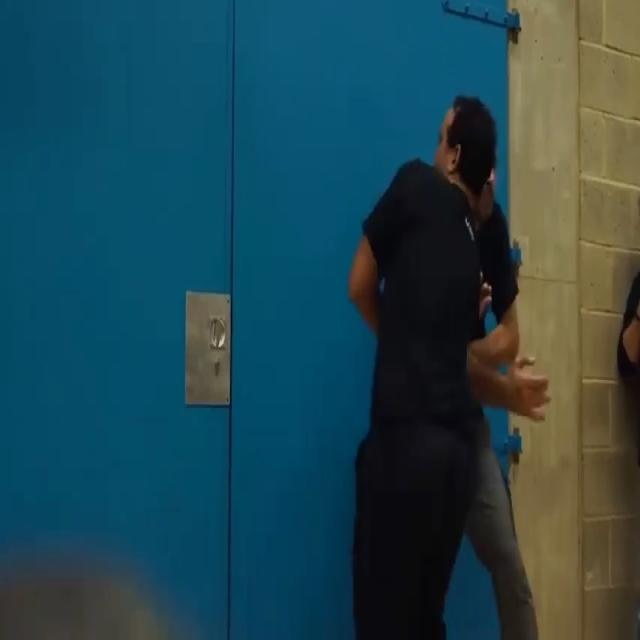fight: (335, 88, 563, 639)
